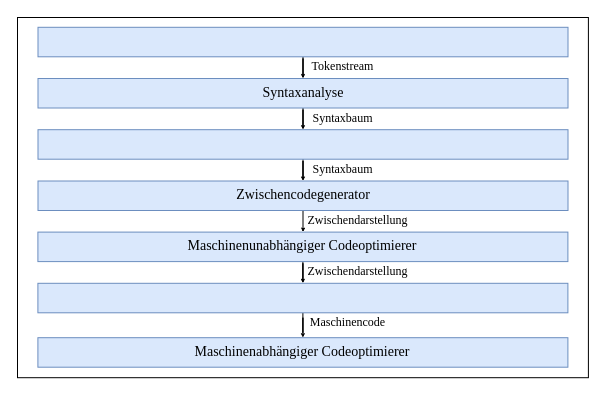
Image size: 606x396. Some labels were removed from this diagram. Each missing label, with the centre of its shape:
"Codegenerator" goes at (302,297).
"Lexikalische Analyse" goes at (302,41).
"Semantische Analyse" goes at (302,144).
